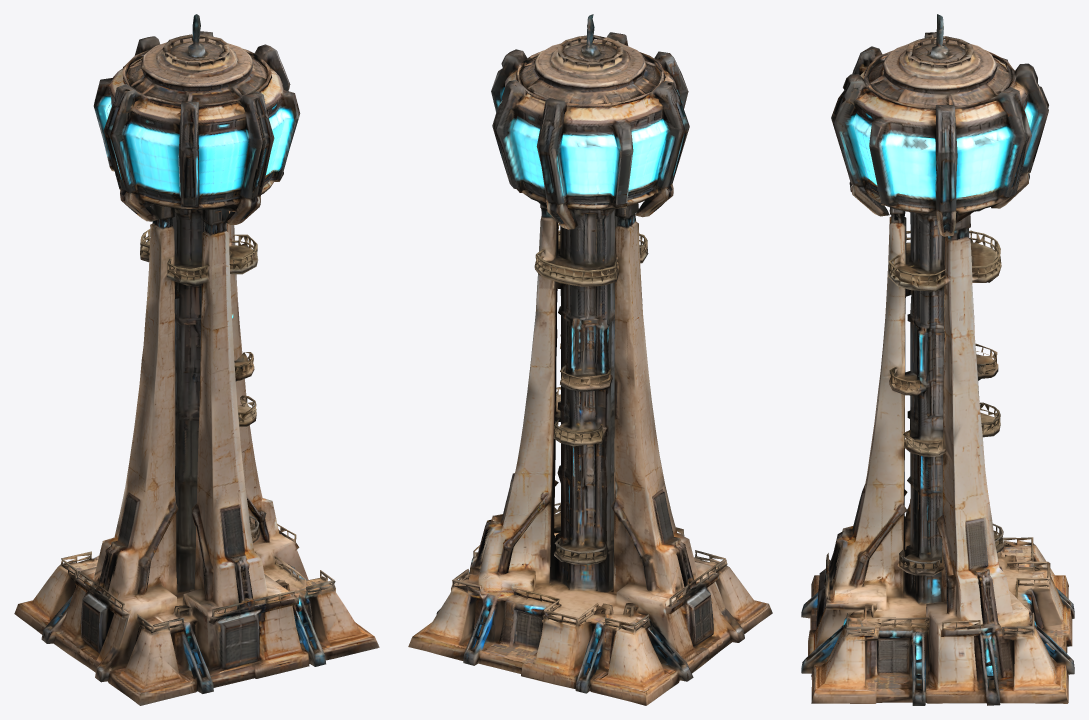
File: solar-receiver-tower.glb
3 views of the same model, side by side, from view 1: azimuth 30°, elevation 25°; view 2: azimuth 150°, elevation 25°; view 3: azimuth 270°, elevation 25° (orthographic). The views are drawn at different scales.
Parts seen in each view (by area): view 1: solar-receiver-tower; view 2: solar-receiver-tower; view 3: solar-receiver-tower.
Boxes of the visible parts, <box> form: solar-receiver-tower: <box>14,14,379,705</box>; solar-receiver-tower: <box>408,14,772,705</box>; solar-receiver-tower: <box>801,14,1074,705</box>.
Size of the model in its own units: 23.6 by 55 by 21.65.
1 material, 1 textured.
